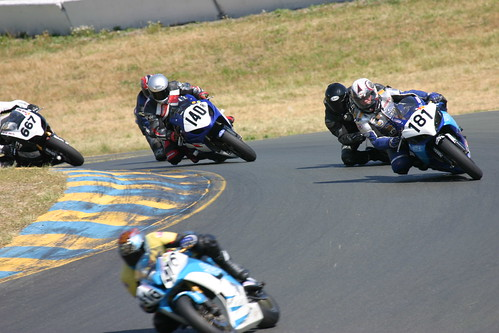helmet: (111, 226, 139, 264), (324, 75, 348, 114), (349, 82, 376, 111), (144, 73, 170, 102)
